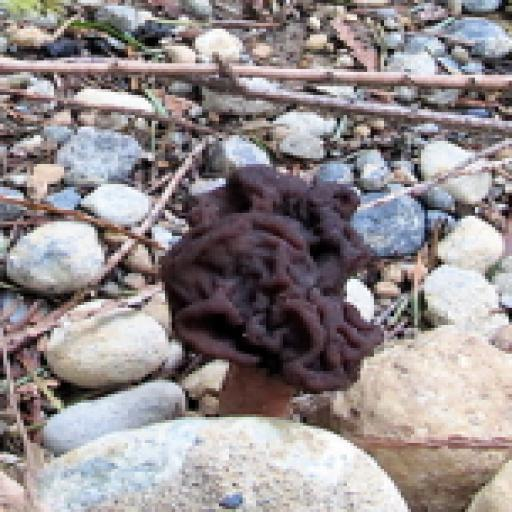mushroom: (142, 145, 399, 432)
